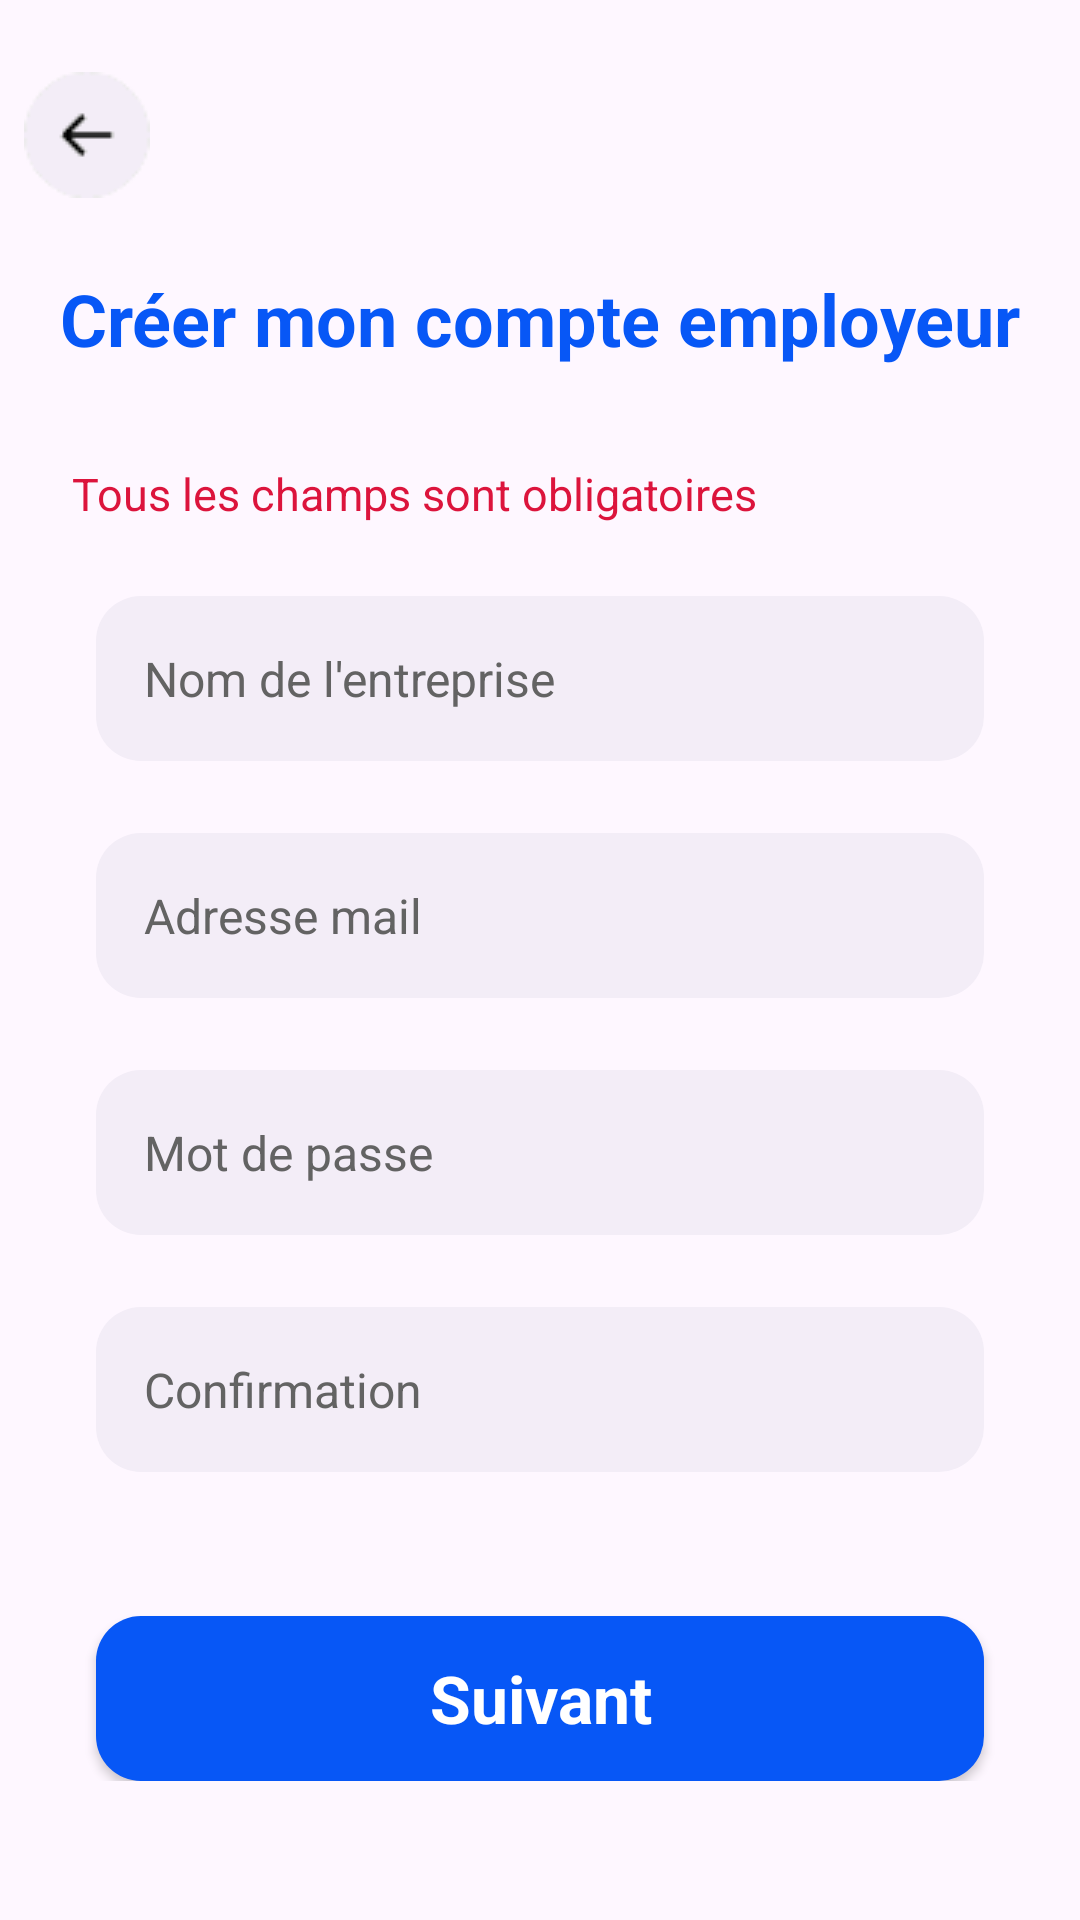

Screen size 1080w x 1920h. Icon name, then its box in pixels as region(x1, y1, x2, y2):
back: region(24, 72, 150, 198)
